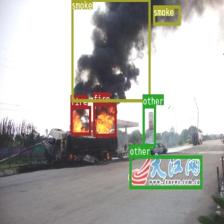fire: (93, 103, 116, 136), (70, 105, 91, 135)
smoke: (71, 0, 150, 102), (152, 5, 180, 25)
